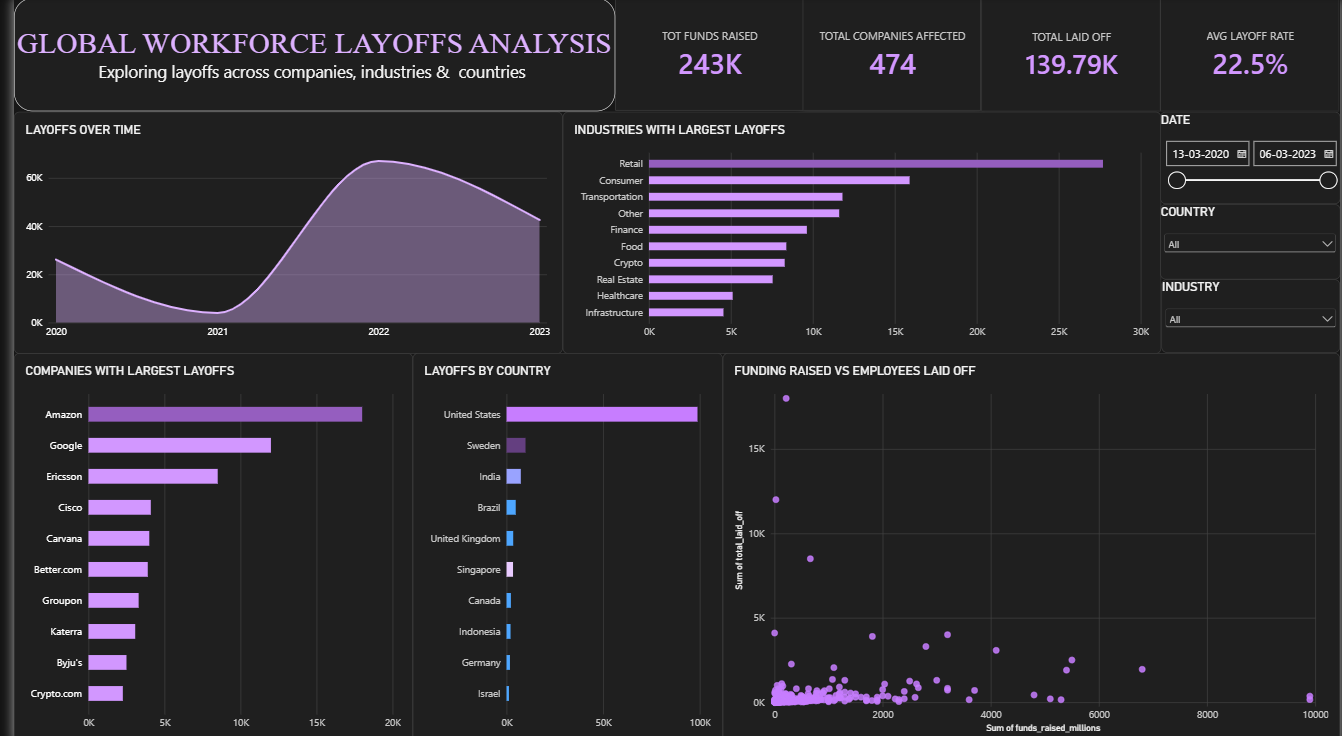

Layout of this report page (visuals, bound fields, positions):
{"tool":"powerbi","page":{"name":"Page 1","canvas":[1920,1080],"ordinal":0},"visuals":[{"type":"clusteredBarChart","title":"COMPANIES WITH LARGEST LAYOFFS","fields":{"Category":["layoffs_stagings2.company"],"Y":["Sum(layoffs_stagings2.total_laid_off)"]},"box":[0,513.9,577.3,566.4],"z":0},{"type":"cardVisual","fields":{"Data":["layoffs_stagings2.TOTAL COMPANIES"]},"box":[1142,0,258.6,163.8],"z":1000},{"type":"cardVisual","fields":{"Data":["Sum(layoffs_stagings2.total_laid_off)"]},"box":[1400,0,259,164],"z":2000},{"type":"cardVisual","fields":{"Data":["layoffs_stagings2.Avg layoffs %"]},"box":[1660,0,259,164],"z":3000},{"type":"cardVisual","fields":{"Data":["layoffs_stagings2.TOT FUNDS RAISED"]},"box":[870,0,272.4,163.8],"z":4000},{"type":"areaChart","title":"LAYOFFS OVER TIME","fields":{"Y":["Sum(layoffs_stagings2.total_laid_off)"],"Category":["layoffs_stagings2.date.Variation.Date Hierarchy.Year","layoffs_stagings2.date.Variation.Date Hierarchy.Quarter"]},"box":[0,164,794,350],"z":5000},{"type":"clusteredBarChart","title":"INDUSTRIES WITH LARGEST LAYOFFS","fields":{"Category":["layoffs_stagings2.industry"],"Y":["Sum(layoffs_stagings2.total_laid_off)"]},"box":[794,164,866,350],"z":6000},{"type":"scatterChart","title":"FUNDING RAISED VS EMPLOYEES LAID OFF","fields":{"X":["Sum(layoffs_stagings2.funds_raised_millions)"],"Y":["Sum(layoffs_stagings2.total_laid_off)"],"Category":["layoffs_stagings2.company"]},"box":[1026.1,513.9,894,566.4],"z":7000},{"type":"barChart","title":"LAYOFFS BY COUNTRY","fields":{"Category":["layoffs_stagings2.country"],"Y":["Sum(layoffs_stagings2.total_laid_off)"]},"box":[577.3,513.9,448.8,566.4],"z":8000},{"type":"textbox","box":[0,0,870,164],"z":9000},{"type":"slicer","title":"DATE","fields":{"Values":["layoffs_stagings2.date"]},"box":[1659.5,164.7,260.6,133.9],"z":10000},{"type":"slicer","title":"COUNTRY","fields":{"Values":["layoffs_stagings2.country"]},"box":[1659.5,298.6,260.6,108.6],"z":11000},{"type":"slicer","title":"INDUSTRY","fields":{"Values":["layoffs_stagings2.industry"]},"box":[1661.3,407.2,258.8,106.8],"z":11001}]}

Visuals, with their boxes in screenshot pixels (x1, y1, x2, y2), scaled from the page's 1920x1080 canvas onto the 1342x736 screenshot:
"COMPANIES WITH LARGEST LAYOFFS" clusteredBarChart: {"x1": 0, "y1": 350, "x2": 404, "y2": 735}
cardVisual - layoffs_stagings2.TOTAL COMPANIES: {"x1": 798, "y1": 0, "x2": 979, "y2": 112}
cardVisual - Sum(layoffs_stagings2.total_laid_off): {"x1": 979, "y1": 0, "x2": 1160, "y2": 112}
cardVisual - layoffs_stagings2.Avg layoffs %: {"x1": 1160, "y1": 0, "x2": 1341, "y2": 112}
cardVisual - layoffs_stagings2.TOT FUNDS RAISED: {"x1": 608, "y1": 0, "x2": 798, "y2": 112}
"LAYOFFS OVER TIME" areaChart: {"x1": 0, "y1": 112, "x2": 555, "y2": 350}
"INDUSTRIES WITH LARGEST LAYOFFS" clusteredBarChart: {"x1": 555, "y1": 112, "x2": 1160, "y2": 350}
"FUNDING RAISED VS EMPLOYEES LAID OFF" scatterChart: {"x1": 717, "y1": 350, "x2": 1341, "y2": 735}
"LAYOFFS BY COUNTRY" barChart: {"x1": 404, "y1": 350, "x2": 717, "y2": 735}
textbox: {"x1": 0, "y1": 0, "x2": 608, "y2": 112}
"DATE" slicer: {"x1": 1160, "y1": 112, "x2": 1341, "y2": 203}
"COUNTRY" slicer: {"x1": 1160, "y1": 203, "x2": 1341, "y2": 277}
"INDUSTRY" slicer: {"x1": 1161, "y1": 277, "x2": 1341, "y2": 350}
